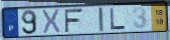3: (131, 6, 148, 31)
9: (21, 8, 39, 36)
F: (63, 8, 84, 33)
I: (97, 7, 105, 33)
L: (109, 7, 127, 31)
X: (41, 8, 62, 35)
